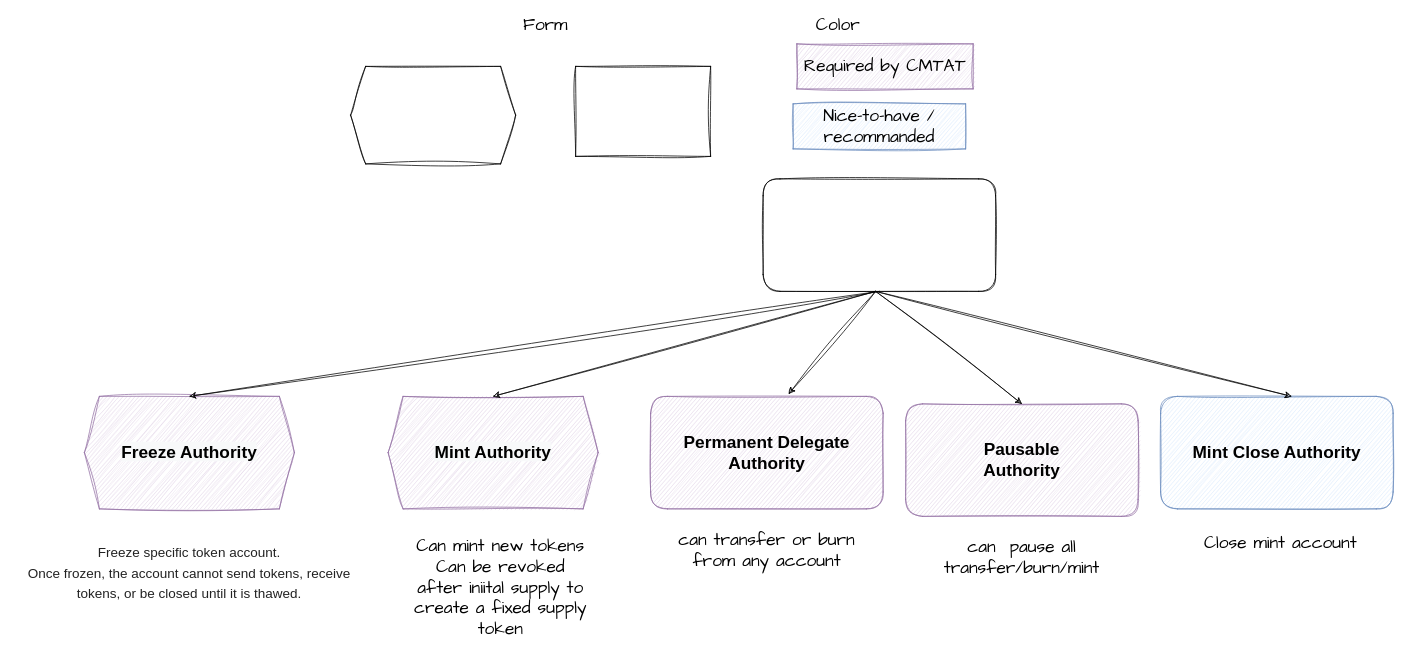
The diagram is 1406 pixels wide and 653 high, and some of its shapes have lost their labels. Here are the shapes that lost their labels. From the top down, the centre of each, then its label:
[433,115]: Basic program
[643,111]: Extension
[879,234]: Mint Account Authorities
